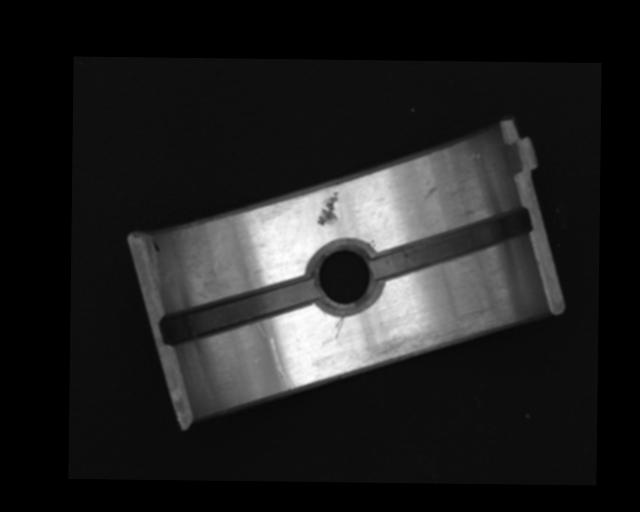blot: (151, 238, 160, 253)
bruise: (316, 190, 340, 227), (423, 179, 437, 200), (470, 151, 483, 160)
gap: (371, 207, 532, 285), (160, 272, 317, 347)
hole: (308, 241, 379, 313)
nick: (268, 336, 295, 390), (334, 316, 344, 339)
scratch: (364, 301, 516, 380)
